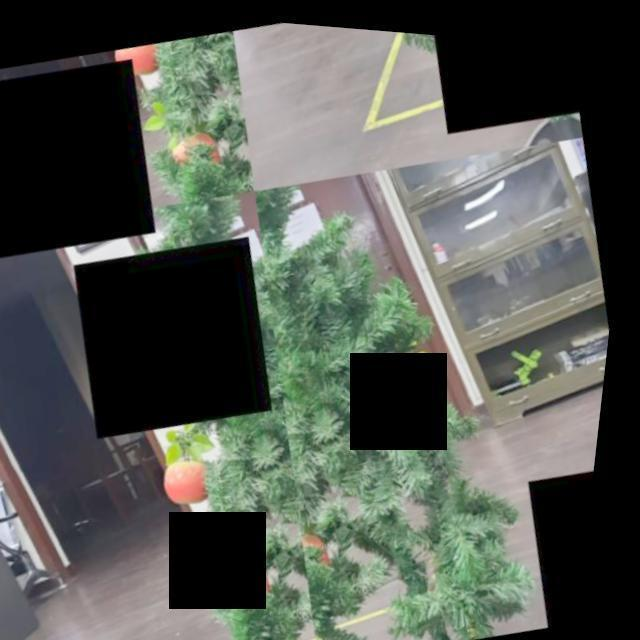tree: (218, 127, 614, 640), (13, 171, 375, 640), (76, 18, 272, 221)
